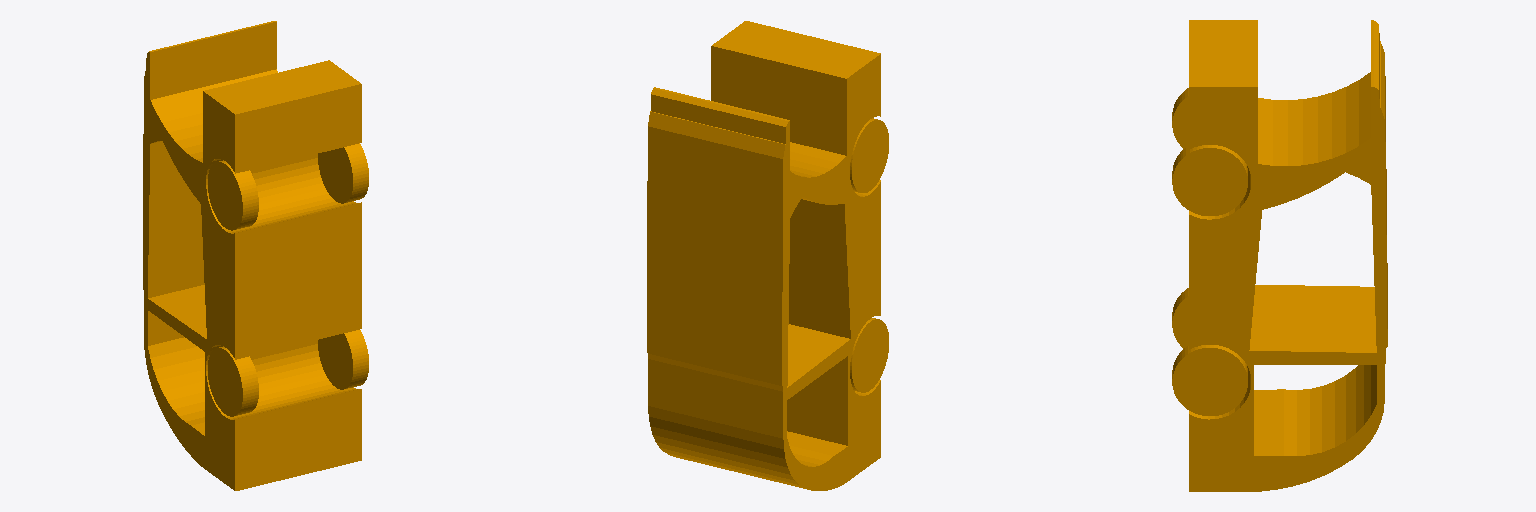
URDF robot description (sdv):
<?xml version="1.0"?>
<robot name="sdv">
  <link name="base_link">
    <visual>
      <origin rpy="0 0 0" xyz="0.0 0.0 0.0"/>
      <geometry>
        <mesh filename="package://sdv_localization/meshes/sdv.stl" scale="1.0 1.0 1.0"/>
      </geometry>
    </visual>
  </link>
<!--
  <joint name="base_link_to_base_laser_joint" type="fixed">
    <parent link="base_link"/>
    <child link="base_laser"/>
    <origin xyz="0 0 1.0"/>
  </joint>

  <link name="base_laser">
    <visual>
      <origin rpy="0 0 0" xyz="0 0 0"/>
      <geometry>
        <cylinder length="0.6" radius="0.2"/>
      </geometry>
    </visual>
  </link>
  -->
</robot>

--- What the picture shows (computed from the rendered views, not written in the file) ---
The picture shows the robot from 3 angles, left to right: view 1: azimuth 30°, elevation 25°; view 2: azimuth 150°, elevation 25°; view 3: azimuth 270°, elevation 25°; orthographic projection.
Robot: sdv — 1 links, 0 joints (none); root link base_link; default pose: all joints at 0.
Links seen in each view (by area): view 1: base_link; view 2: base_link; view 3: base_link.
Link boxes in pixels (left/top/right/bottom): base_link: left=143, top=21, right=368, bottom=490; base_link: left=647, top=21, right=888, bottom=490; base_link: left=1172, top=20, right=1387, bottom=491.
Bounding box of the posed robot: 1490 × 2047 × 4245 m (x, y, z).
Meshes: 1 distinct files referenced, 1 mesh visuals loaded (1 binary STL).